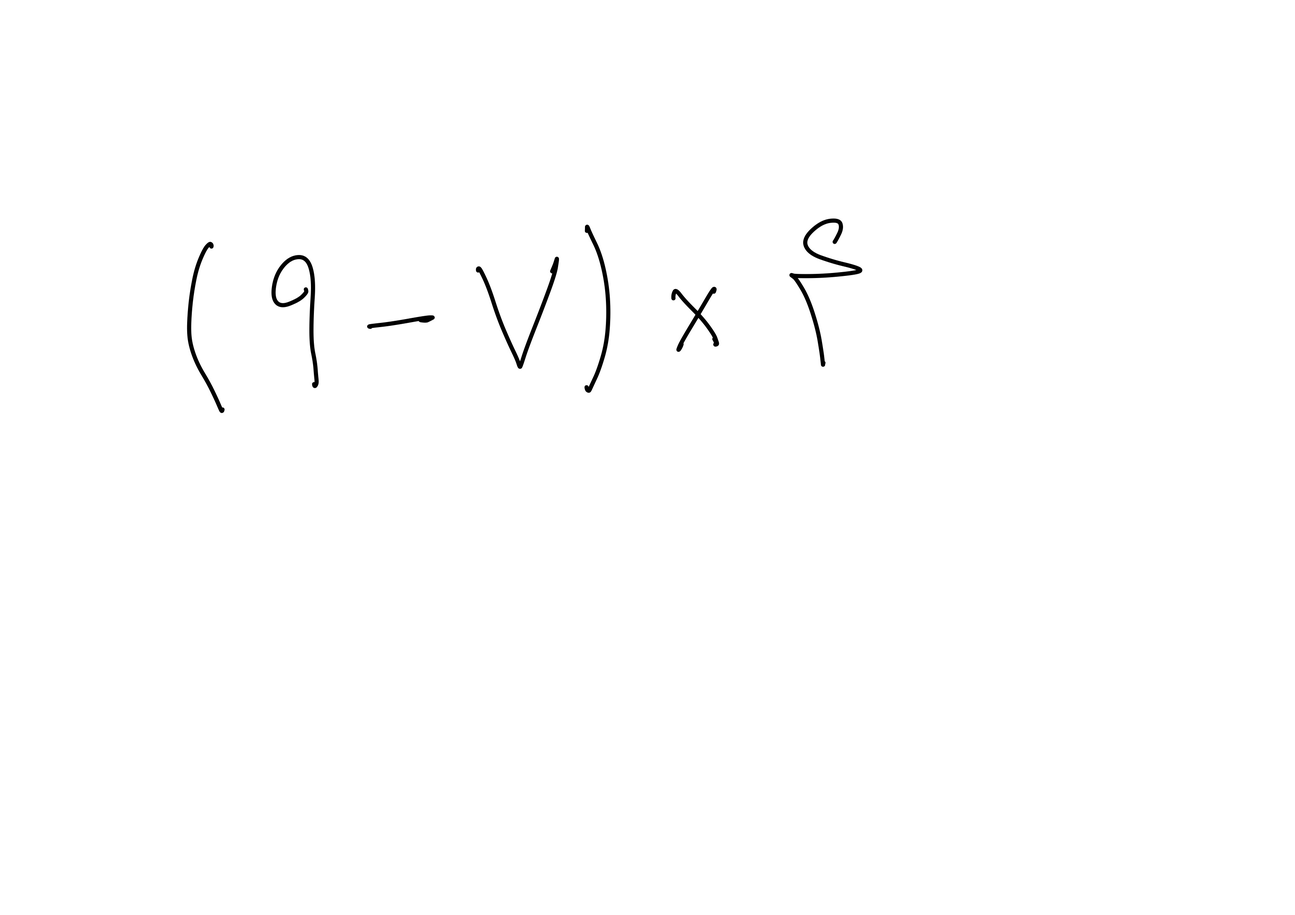character: (788, 217, 864, 373), (475, 257, 561, 373), (186, 239, 225, 417), (273, 255, 319, 389), (577, 225, 612, 393), (666, 287, 722, 351), (365, 313, 435, 335)
